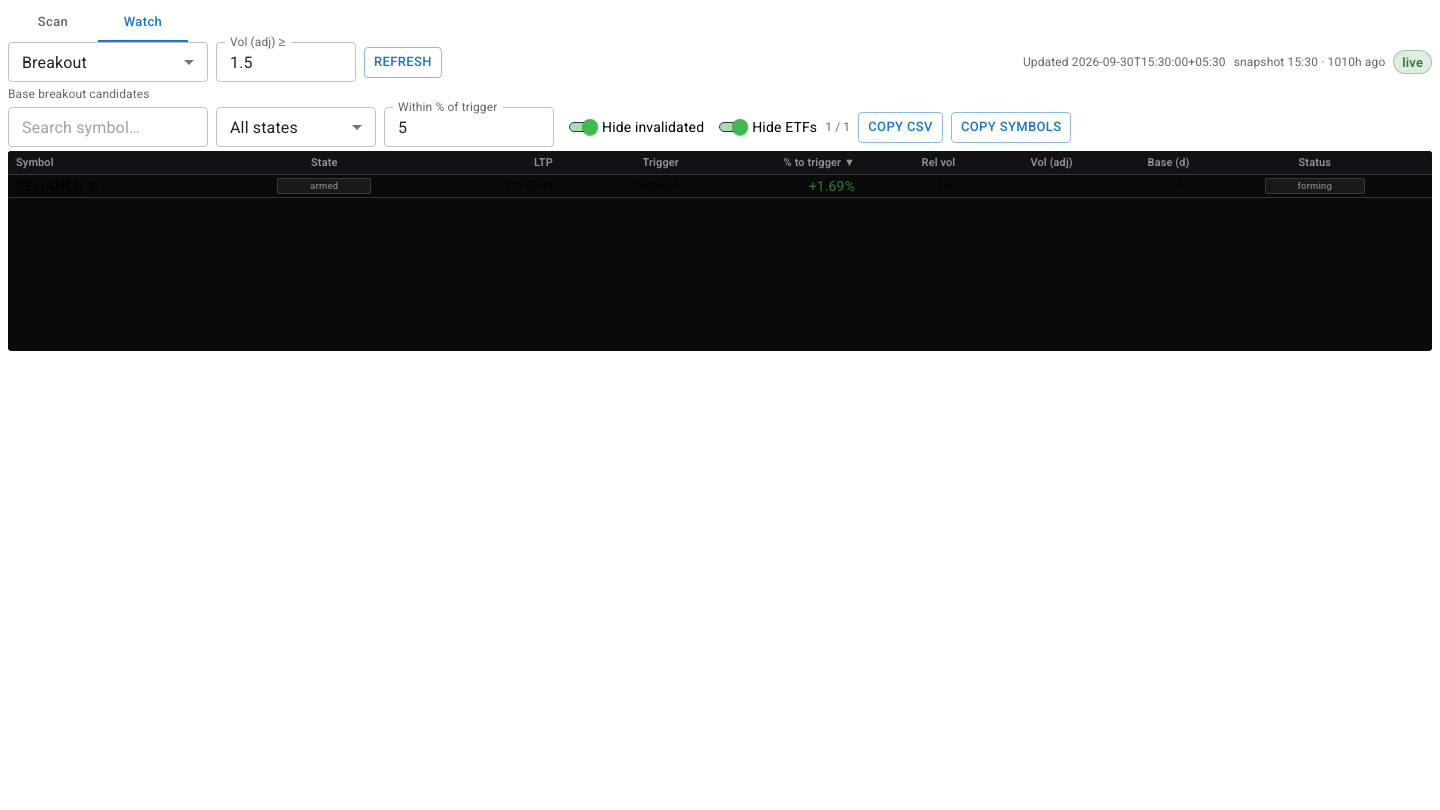
PatternsPage watch tab › clicking a watch row opens the fullscreen chart via detectPatterns
The image size is (1440, 810).
Click the row with test id "watch-row-RELIANCE" at (720, 186), box [8,174,1432,197]
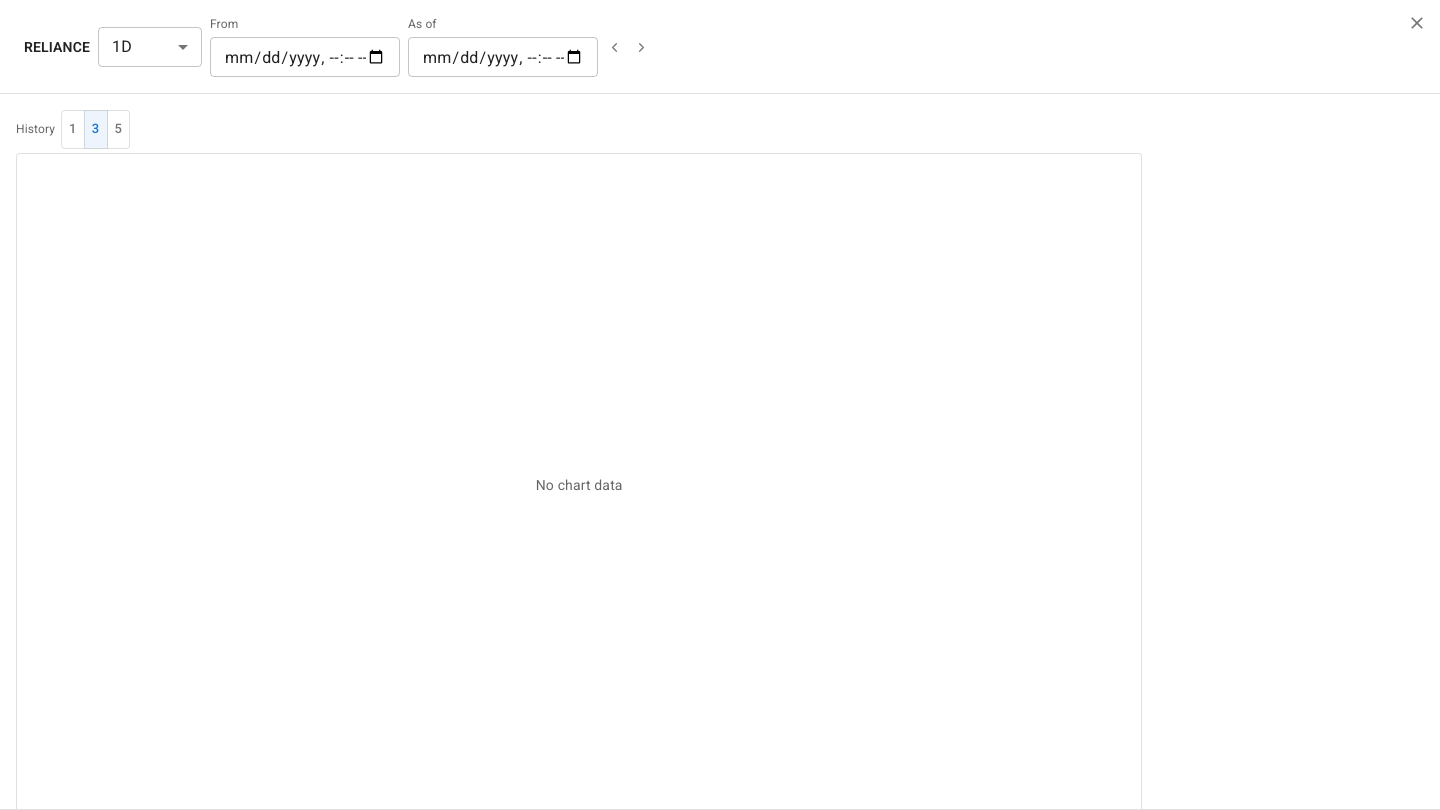
Result: the element with test id "patterns-fullscreen-modal" is shown
